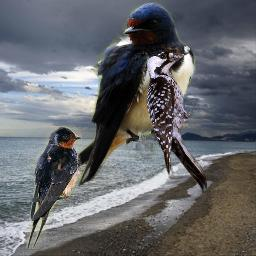Swallow: (62, 2, 196, 190), (24, 125, 82, 249)
Woodpecker: (145, 50, 207, 193)
